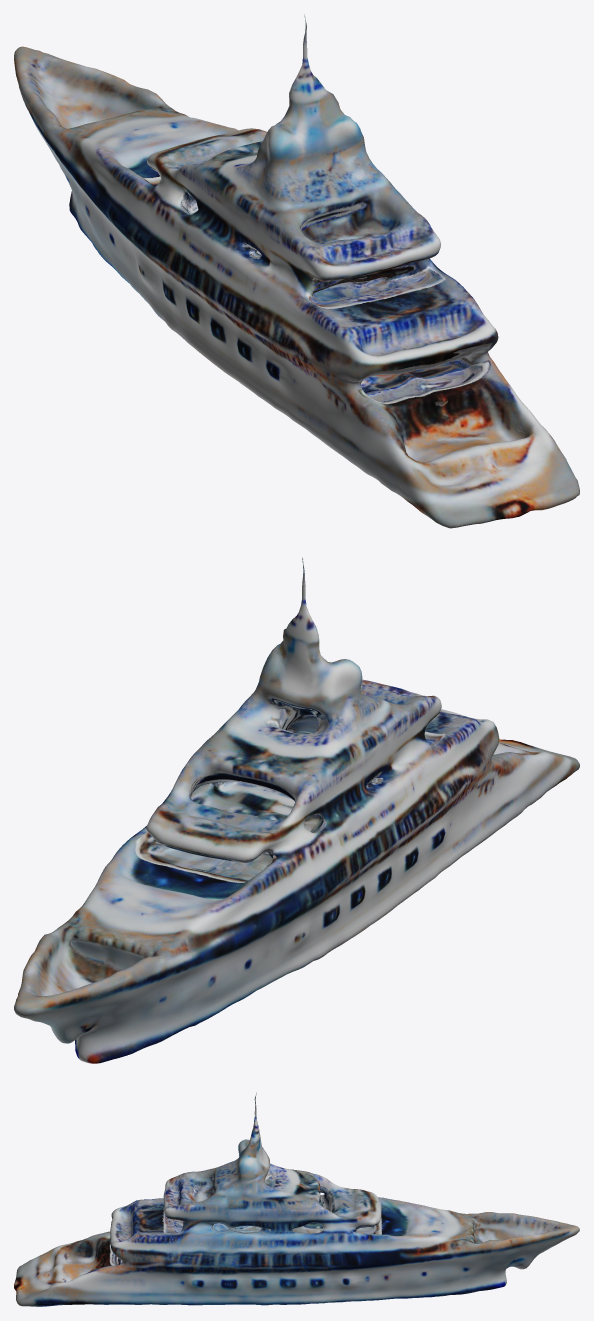
File: a1a68f790760_a_Chinese_yacht_min.obj
3 renders of one model, top to bottom at view 1: azimuth 30°, elevation 25°; view 2: azimuth 150°, elevation 25°; view 3: azimuth 270°, elevation 25°, orthographic. The views are drawn at different scales.
Visible parts, largest first — view 1: mesh; view 2: mesh; view 3: mesh.
Part boxes in pixels (x1,y1,x2,y2): mesh: [14, 14, 579, 528]; mesh: [14, 557, 579, 1063]; mesh: [14, 1092, 579, 1306].
Size of the model in its own units: 0.2131 by 0.3874 by 0.9961.
1 material, 1 textured.
